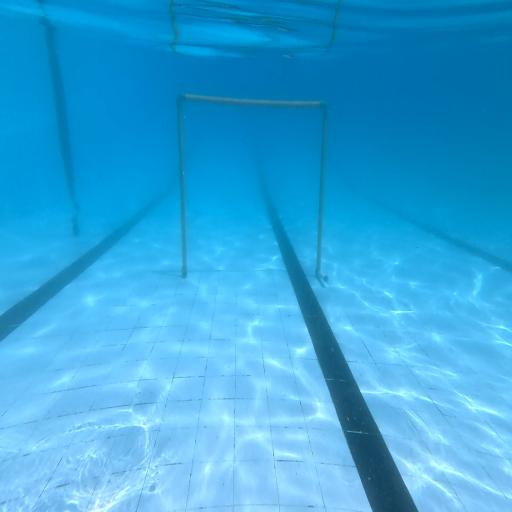gate: (177, 92, 329, 284)
